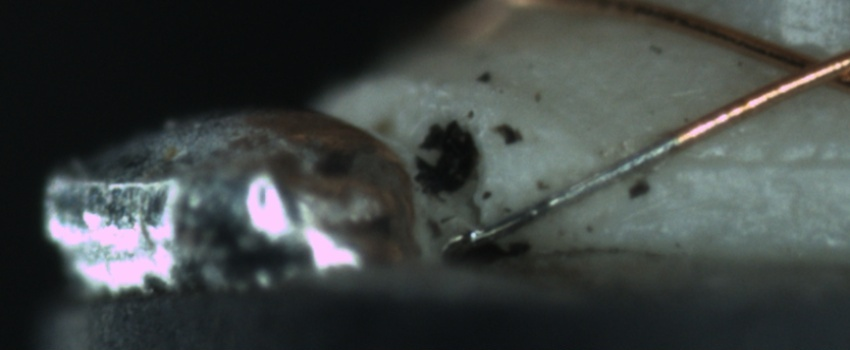CL: (762, 38, 849, 99)
DL: (644, 130, 850, 194)
TS: (449, 138, 677, 247)
